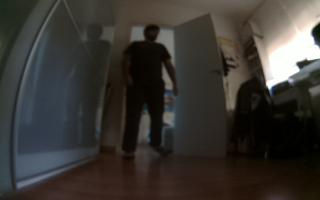person: (118, 21, 181, 164)
